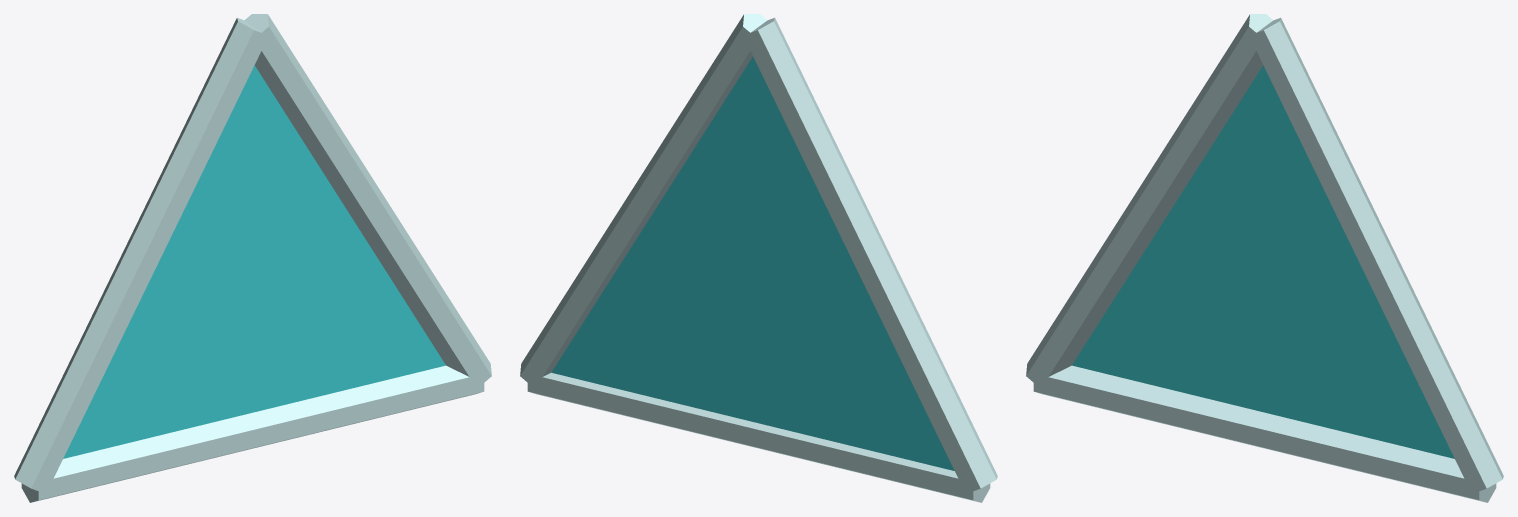
File: simbolo_triangulo.glb
3 views of the same model, side by side, from view 1: azimuth 30°, elevation 25°; view 2: azimuth 150°, elevation 25°; view 3: azimuth 330°, elevation 25° (orthographic).
Visible parts, largest first — view 1: simbolo_triangulo; view 2: simbolo_triangulo; view 3: simbolo_triangulo.
Boxes of the visible parts, left/top/right/bottom form: simbolo_triangulo: left=14, top=14, right=491, bottom=502; simbolo_triangulo: left=520, top=14, right=997, bottom=502; simbolo_triangulo: left=1026, top=14, right=1503, bottom=502.
Bounding box in the file's own units: 0.776 × 0.672 × 0.0485.
